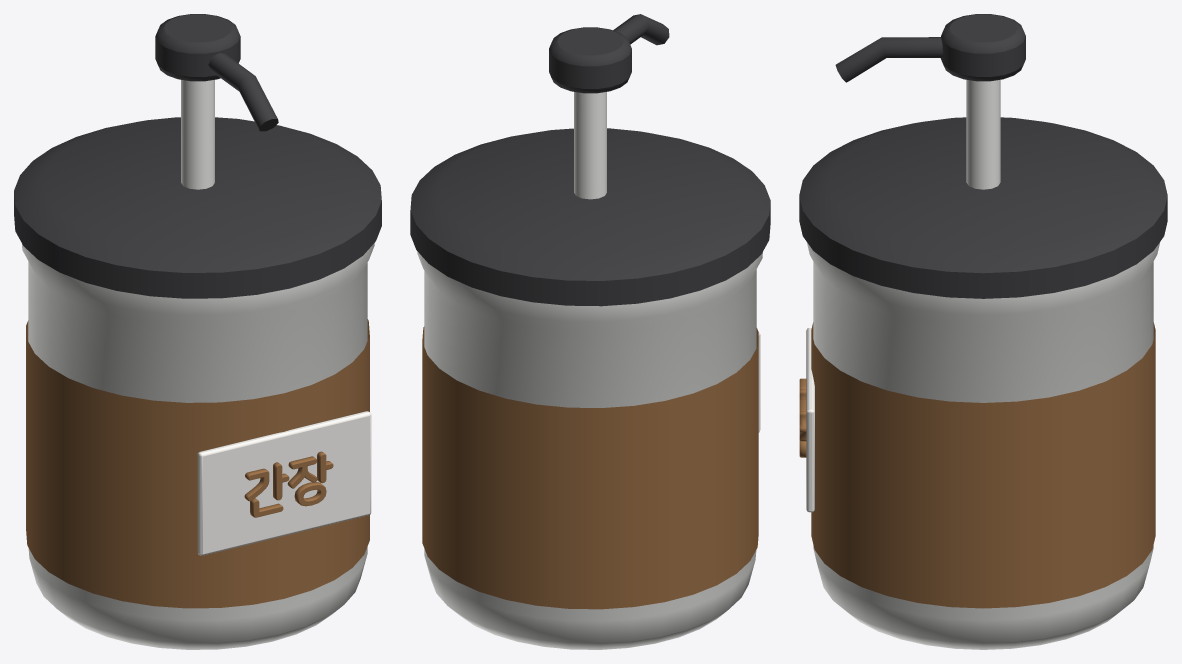
File: SauceTub_Ganjang.fbx
3 views of the same model, side by side, from view 1: azimuth 30°, elevation 25°; view 2: azimuth 150°, elevation 25°; view 3: azimuth 270°, elevation 25° (orthographic). The views are drawn at different scales.
Visible parts, largest first — view 1: SauceTub_Ganjang; view 2: SauceTub_Ganjang; view 3: SauceTub_Ganjang.
Part boxes in pixels (x1=…): SauceTub_Ganjang: x1=14, y1=14, x2=381, y2=649; SauceTub_Ganjang: x1=410, y1=14, x2=770, y2=649; SauceTub_Ganjang: x1=799, y1=14, x2=1167, y2=649.
Size of the model in its own units: 0.26 by 0.435 by 0.26.
